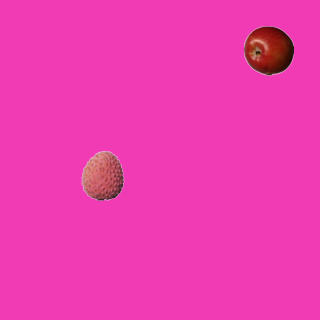Apple Braeburn: (243, 25, 293, 75)
Lychee: (77, 150, 127, 200)
